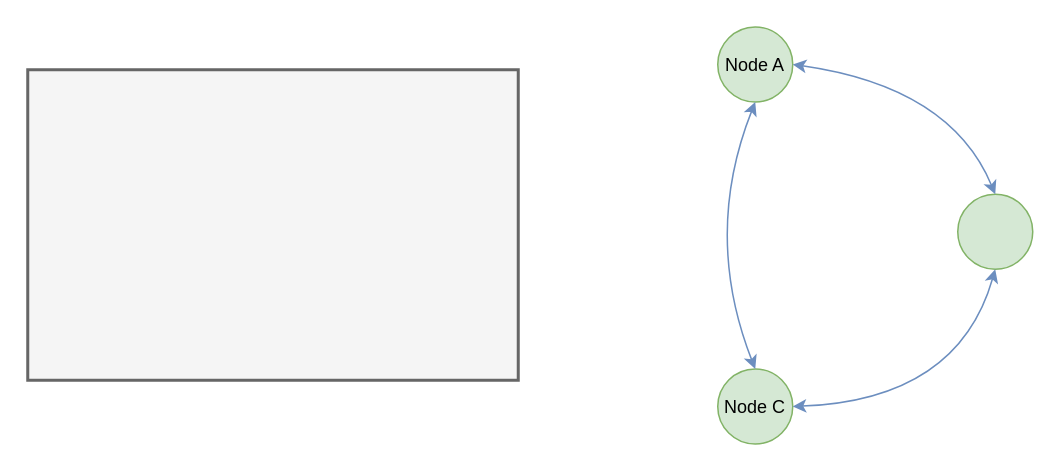
This 1059x470 diagram has some shape labels left out. The centre of each missing label's shape, as x and y in pixels:
Node B: (x=994, y=231)
Orchestrator: (x=272, y=224)
